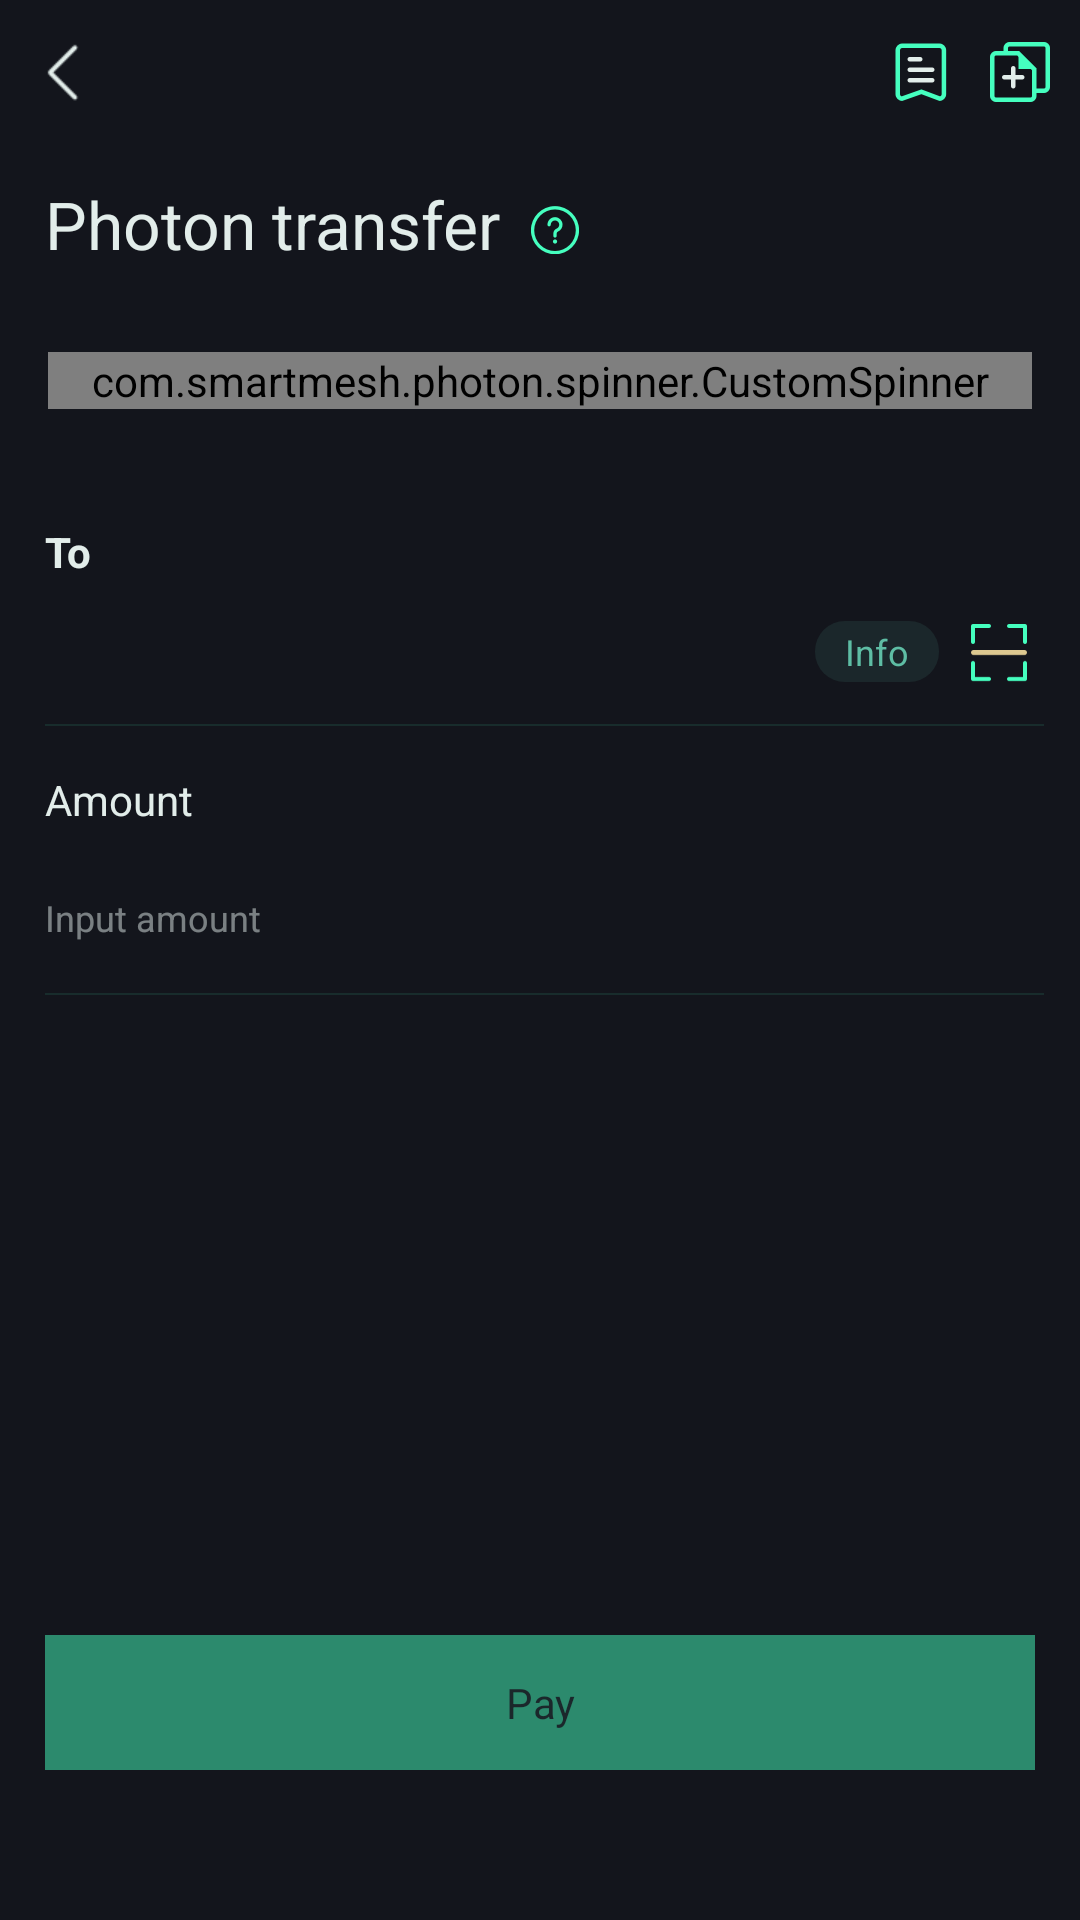

Screen size 1080w x 1920h. Icon name, then its center in pixels as point (x, y):
back: point (62, 73)
photon create: point (1020, 72)
photon list: point (921, 72)
photon use: point (555, 230)
scan: point (999, 653)
